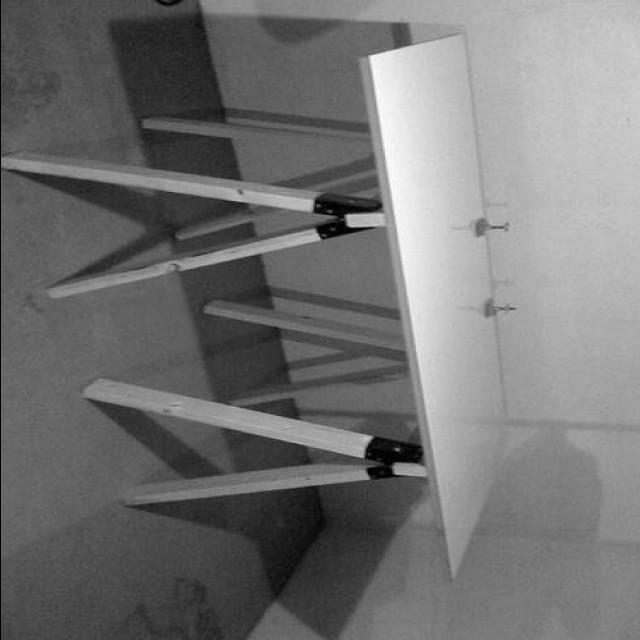table: (1, 30, 510, 583)
